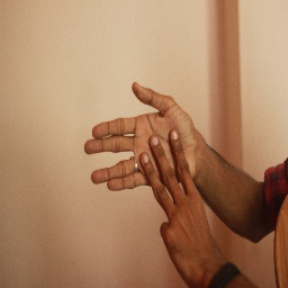M: (83, 82, 210, 228)
